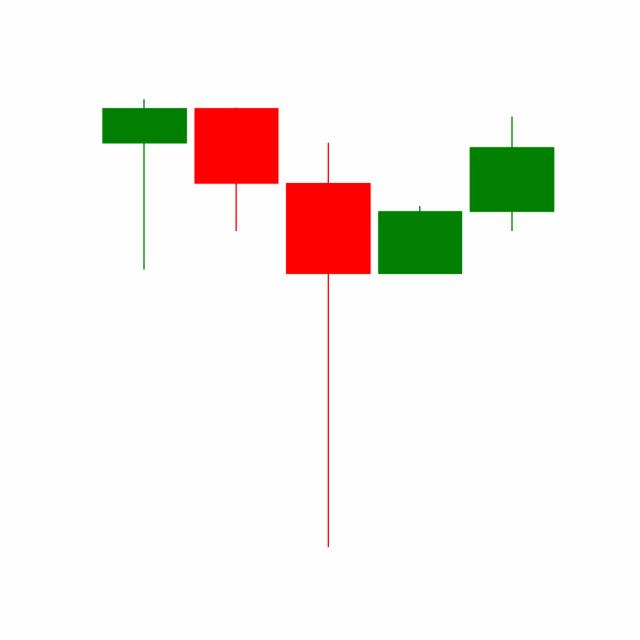Marubozu: (373, 204, 467, 274)
